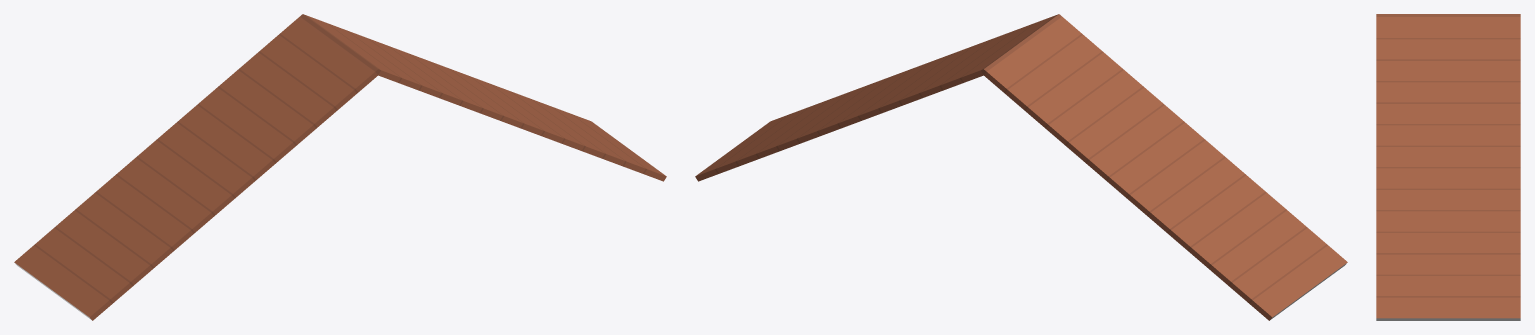
File: Roof4_C5_01.fbx
The picture shows the model from 3 angles, left to right: view 1: azimuth 30°, elevation 25°; view 2: azimuth 150°, elevation 25°; view 3: azimuth 270°, elevation 25°; orthographic projection. The views are drawn at different scales.
Visible parts, largest first — view 1: Roof4_C5_01; view 2: Roof4_C5_01; view 3: Roof4_C5_01.
Part boxes in pixels (x1=…): Roof4_C5_01: x1=14, y1=14, x2=666, y2=320; Roof4_C5_01: x1=695, y1=14, x2=1347, y2=320; Roof4_C5_01: x1=1376, y1=14, x2=1520, y2=320.
Size of the model in its own units: 1105 by 333 by 250.
